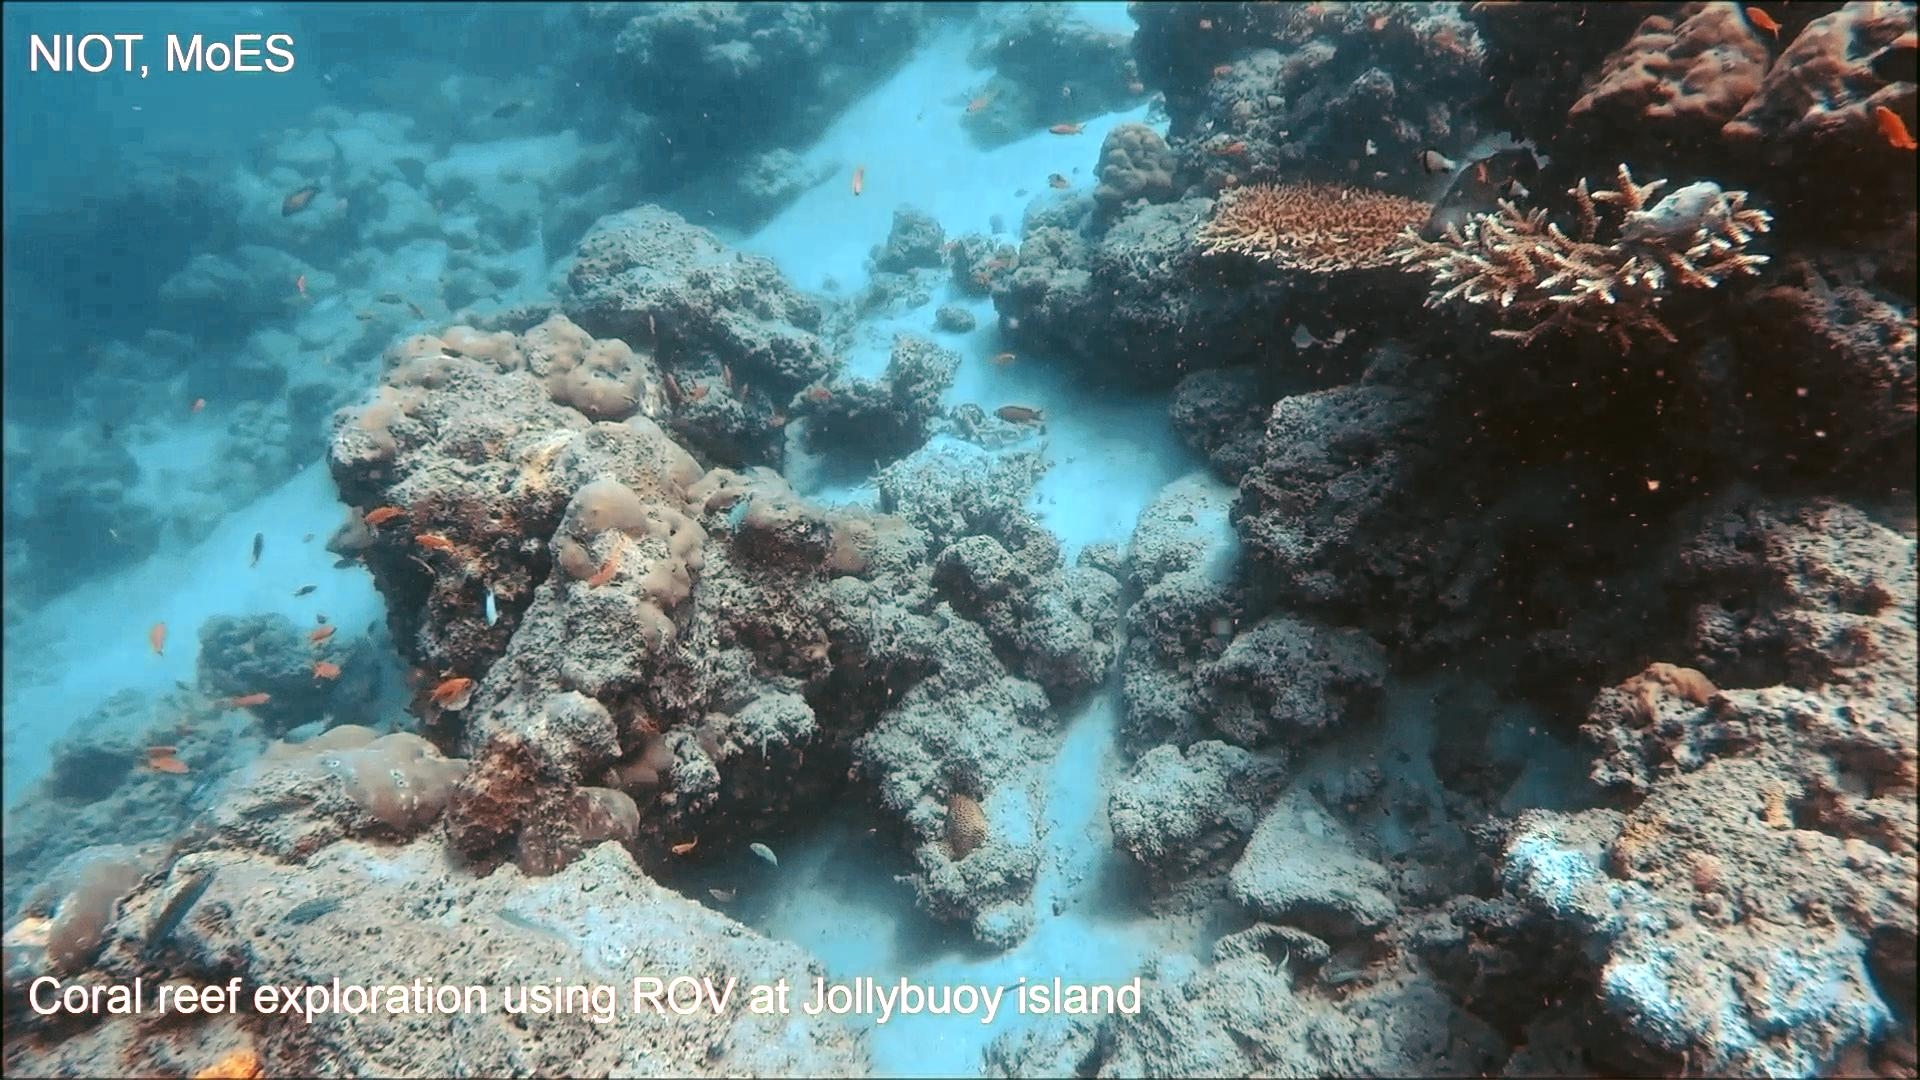Porites-Porites pukoensis: (487, 306, 756, 662)
